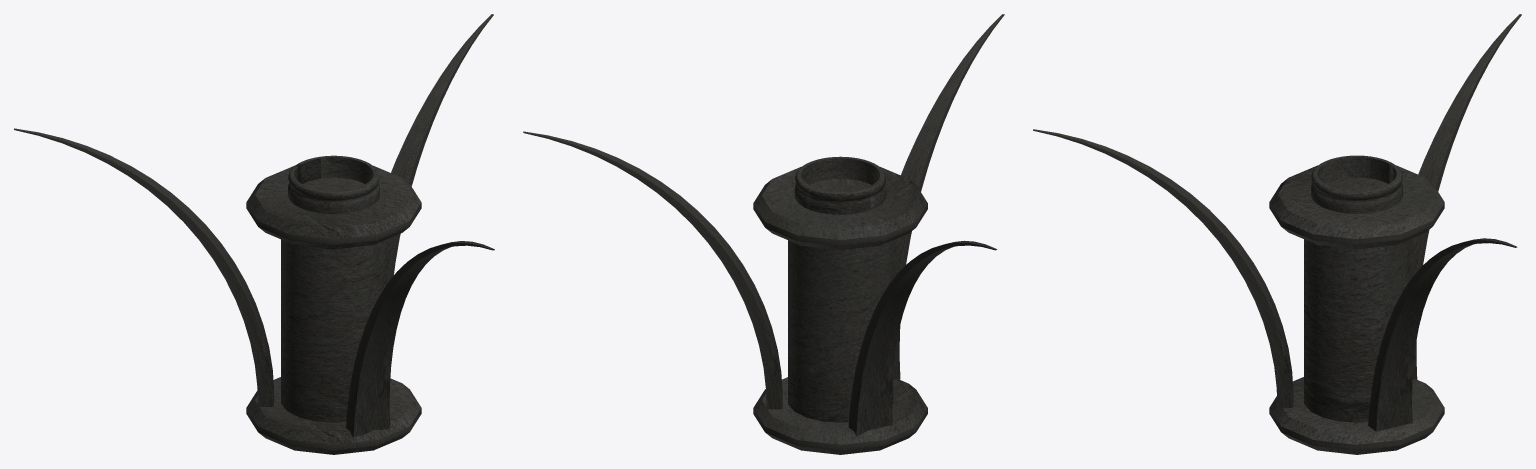
The picture shows the model from 3 angles, left to right: view 1: azimuth 30°, elevation 25°; view 2: azimuth 150°, elevation 25°; view 3: azimuth 270°, elevation 25°; orthographic projection.
Visible parts, largest first — view 1: portal1, Loft001; view 2: portal1, Loft001; view 3: portal1, Loft001.
Part boxes in pixels (left/top/right/bottom): portal1: left=14, top=14, right=494, bottom=454; Loft001: left=288, top=155, right=379, bottom=213; portal1: left=523, top=14, right=1004, bottom=454; Loft001: left=794, top=156, right=886, bottom=214; portal1: left=1033, top=14, right=1521, bottom=454; Loft001: left=1311, top=155, right=1402, bottom=213.
Bounding box in the file's own units: 13.03 × 7.58 × 11.54.
2 materials, 2 textured.
